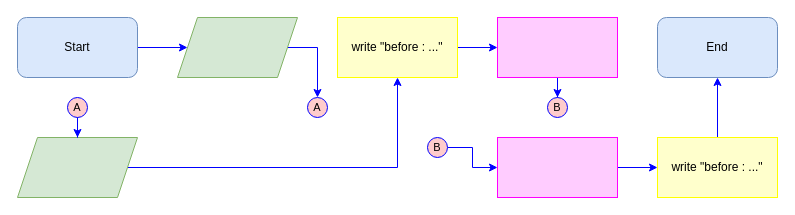
The diagram is 795 pixels wide and 215 high, and some of its shapes have lost their labels. Each missing label, with the box of its shape:
cost: (16, 136, 138, 198)
function(): (496, 16, 618, 78)
score = 0: (176, 16, 298, 78)
score+1: (496, 136, 618, 198)
